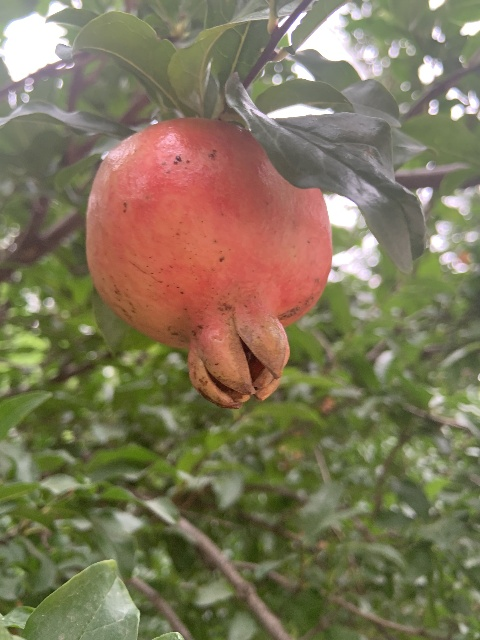ripe: (85, 116, 331, 406)
